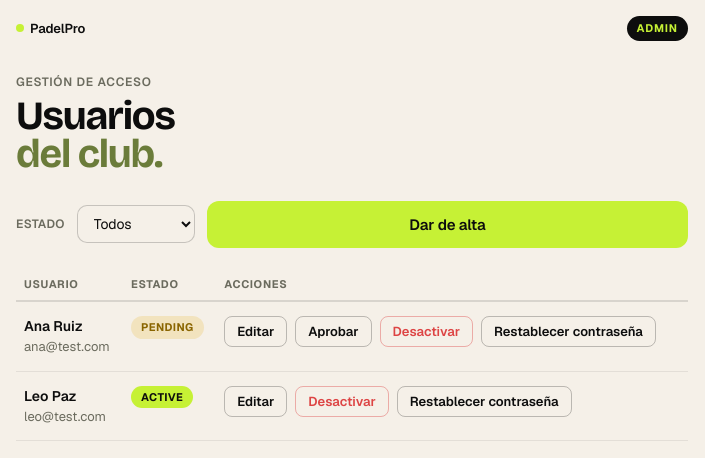
it: AdminUsuariosPage › 6.3 — filters by status PENDING
Expected: the text "ana@test.com" is shown, [24,337,115,356]
Select "Pendientes" in the dropdown labelled "Estado". click: (136, 224)
box: [77,205,195,243]
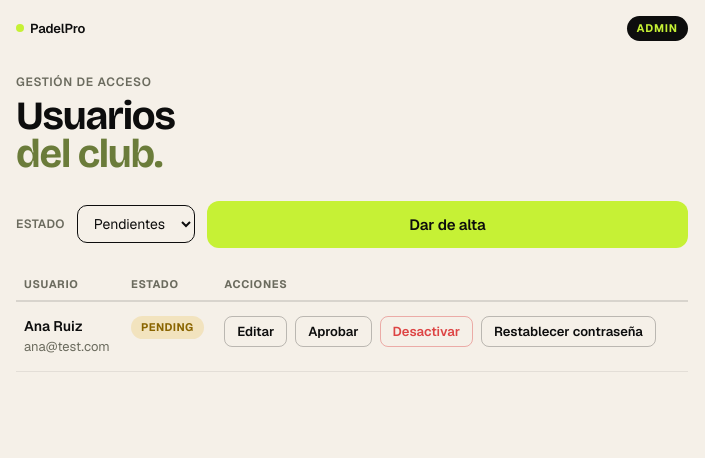
Expected: the text "ana@test.com" is shown, [24,337,115,356]
Expected: the text "leo@test.com" is gone
